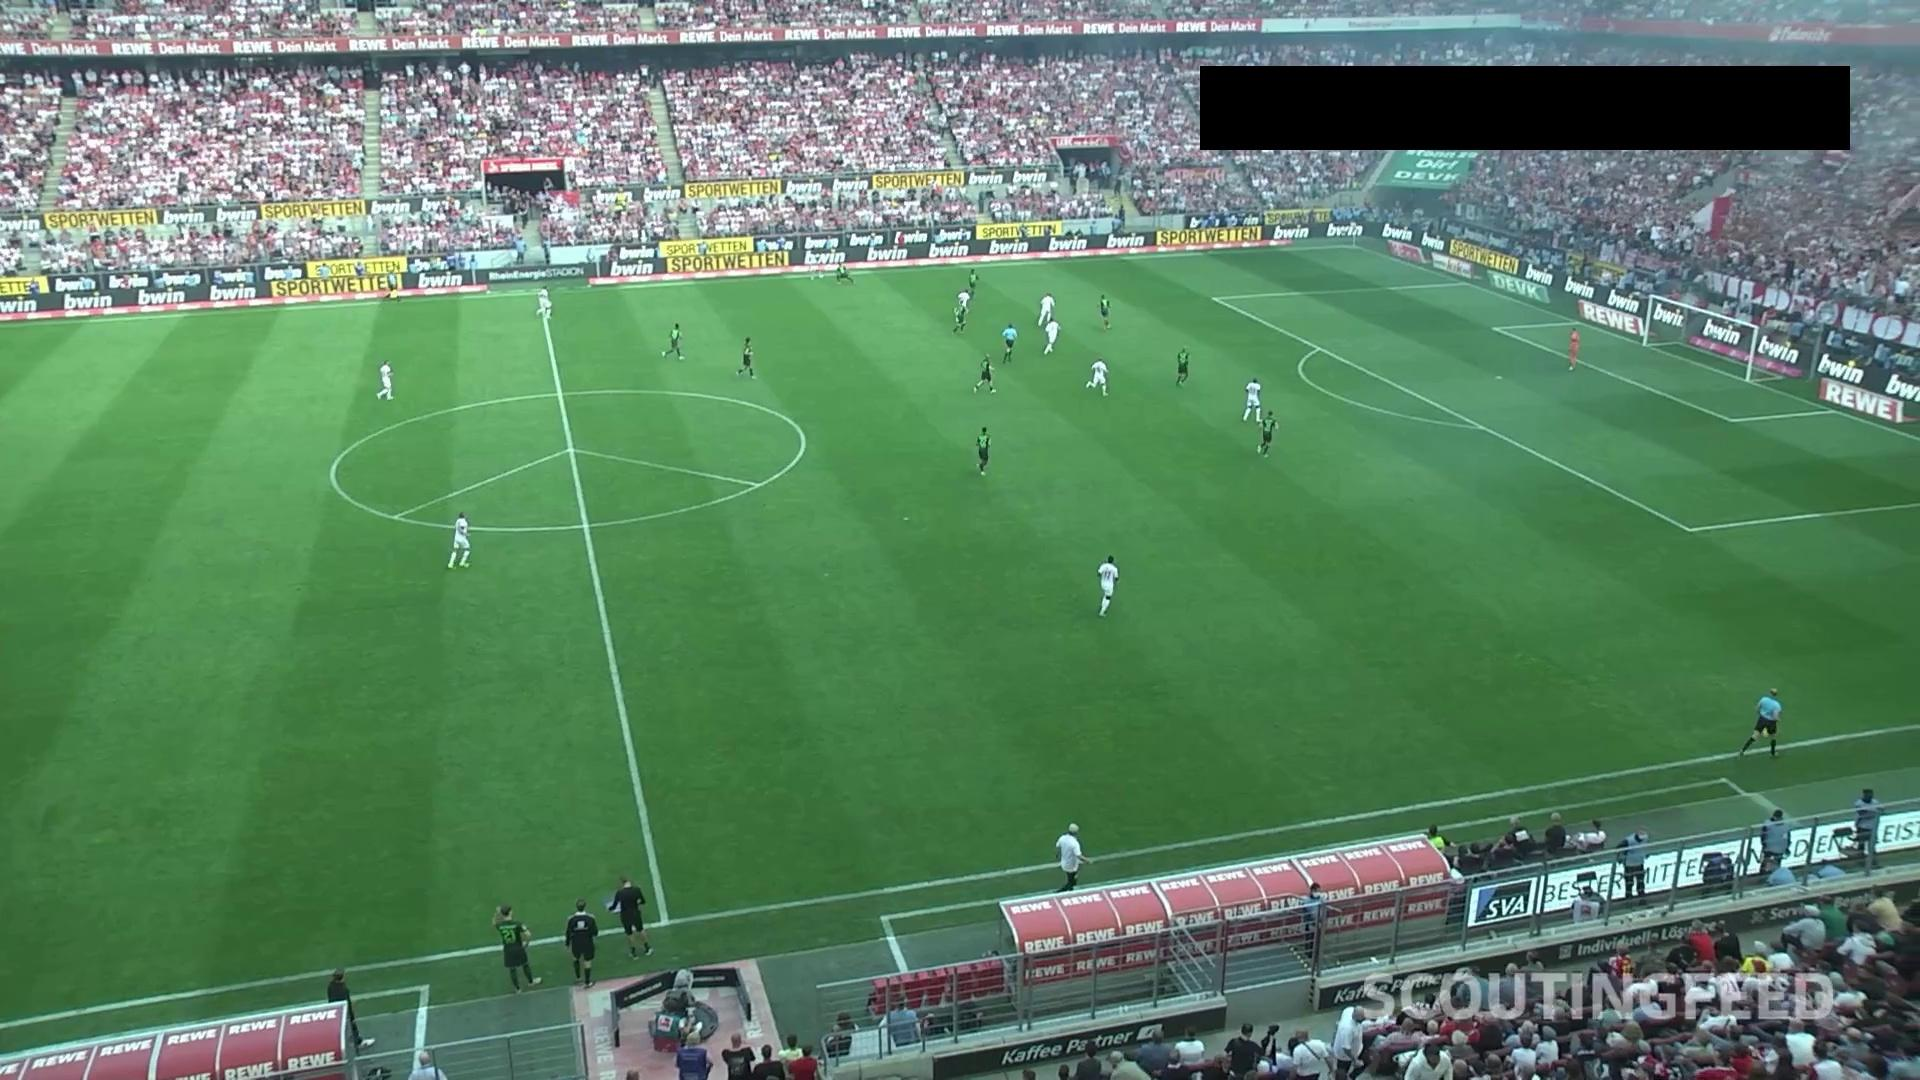Location-of-ball: (814, 268, 831, 282)
